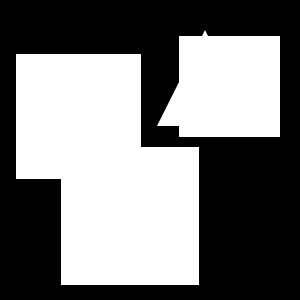circle: (61, 147, 199, 285), (16, 54, 141, 179), (179, 36, 280, 137)
triangle: (157, 30, 253, 126), (68, 111, 83, 126)
